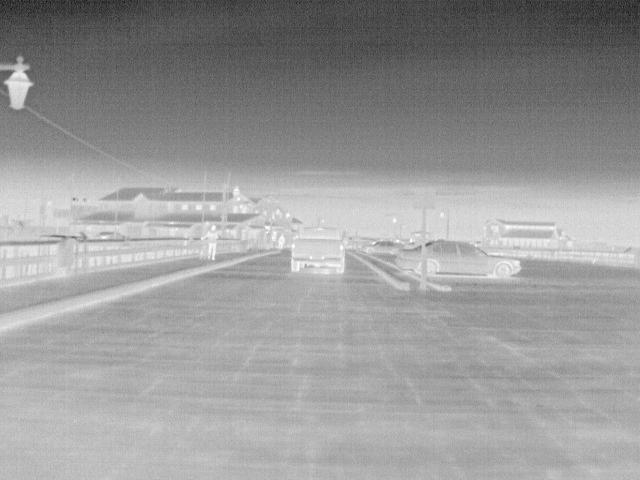car: (428, 238, 524, 282), (289, 224, 345, 275), (393, 244, 422, 276), (362, 238, 407, 257)
person: (198, 222, 217, 264), (275, 233, 287, 251)
